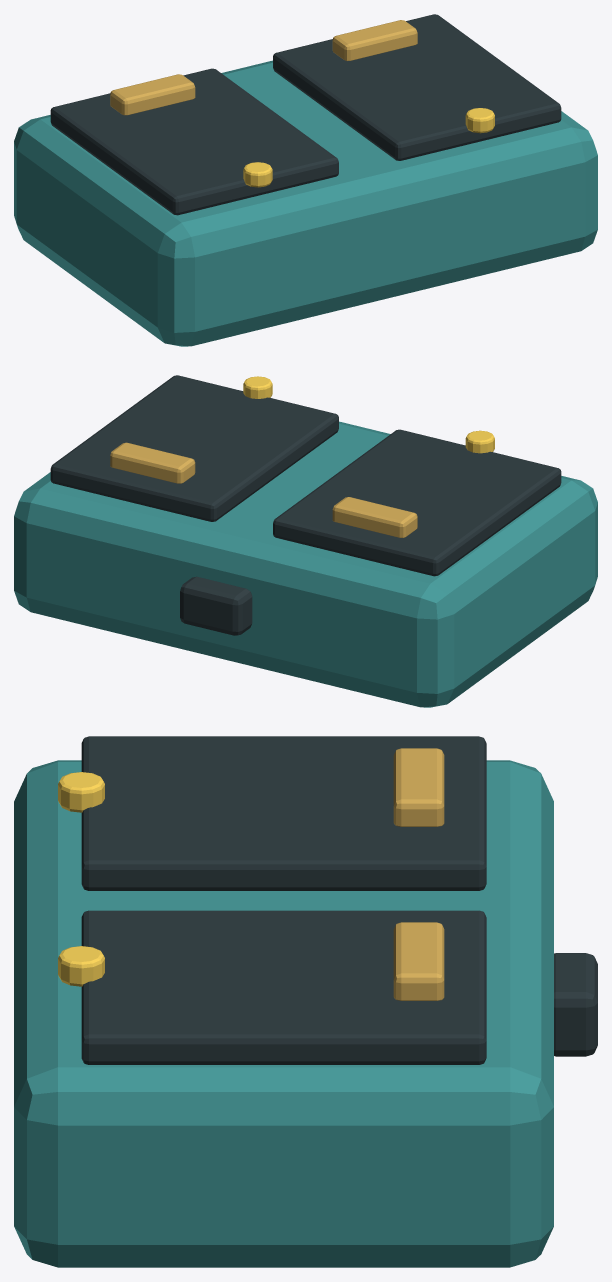
Rendered from P064_battery_charger.glb.
3 renders of one model, top to bottom at view 1: azimuth 30°, elevation 25°; view 2: azimuth 150°, elevation 25°; view 3: azimuth 270°, elevation 25°, orthographic. The views are drawn at different scales.
Visible parts, largest first — view 1: P064_charger_001, P064_battery_slot_002, P064_battery_slot_005, P064_contact_003, P064_contact_006, P064_status_004, P064_status_007; view 2: P064_charger_001, P064_battery_slot_005, P064_battery_slot_002, P064_cord_socket_008, P064_contact_006, P064_contact_003, P064_status_007, P064_status_004; view 3: P064_charger_001, P064_battery_slot_002, P064_battery_slot_005, P064_cord_socket_008, P064_contact_003, P064_contact_006, P064_status_004, P064_status_007.
Boxes of the visible parts, x1=… form: P064_charger_001: x1=14, y1=60, x2=597, y2=346; P064_battery_slot_002: x1=50, y1=68, x2=338, y2=215; P064_battery_slot_005: x1=273, y1=14, x2=561, y2=160; P064_contact_003: x1=110, y1=74, x2=195, y2=115; P064_contact_006: x1=332, y1=20, x2=417, y2=60; P064_status_004: x1=243, y1=162, x2=272, y2=187; P064_status_007: x1=465, y1=108, x2=494, y2=133; P064_charger_001: x1=14, y1=421, x2=597, y2=707; P064_battery_slot_005: x1=50, y1=375, x2=338, y2=521; P064_battery_slot_002: x1=273, y1=429, x2=561, y2=576; P064_cord_socket_008: x1=180, y1=576, x2=252, y2=635; P064_contact_006: x1=110, y1=442, x2=195, y2=483; P064_contact_003: x1=332, y1=497, x2=417, y2=537; P064_status_007: x1=243, y1=376, x2=272, y2=398; P064_status_004: x1=465, y1=430, x2=494, y2=453; P064_charger_001: x1=14, y1=760, x2=553, y2=1267; P064_battery_slot_002: x1=81, y1=736, x2=486, y2=890; P064_battery_slot_005: x1=81, y1=910, x2=486, y2=1064; P064_cord_socket_008: x1=554, y1=953, x2=597, y2=1056; P064_contact_003: x1=393, y1=748, x2=444, y2=826; P064_contact_006: x1=393, y1=922, x2=444, y2=1000; P064_status_004: x1=58, y1=772, x2=104, y2=812; P064_status_007: x1=58, y1=946, x2=104, y2=986.
Size of the model in its own units: 0.24 by 0.0825 by 0.173.
